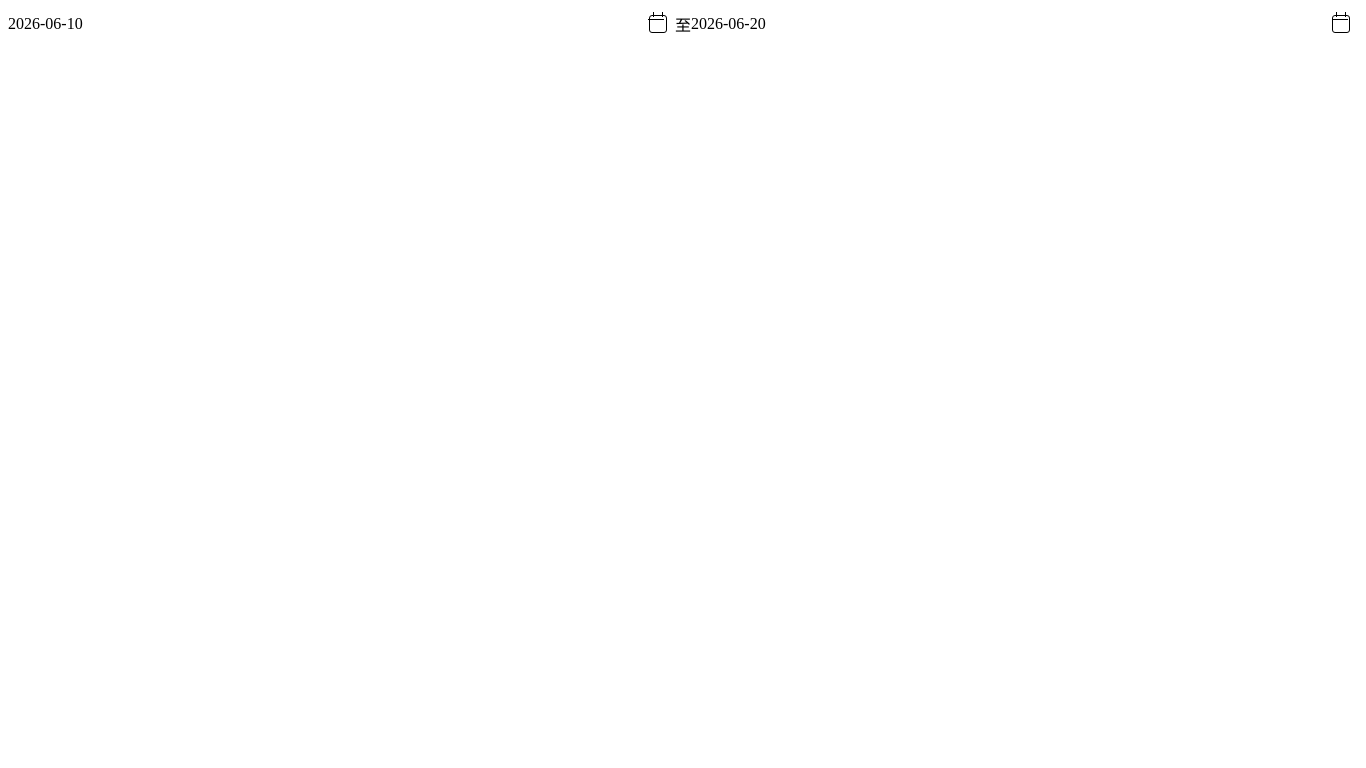
Test case: DateRangePicker › 支持 disabledDate 按位置禁用日期
This screenshot has width=1366, height=768.
Click the 2nd button with class "su-date-picker__trigger" at (1341, 24), box [1324, 8, 1358, 40]
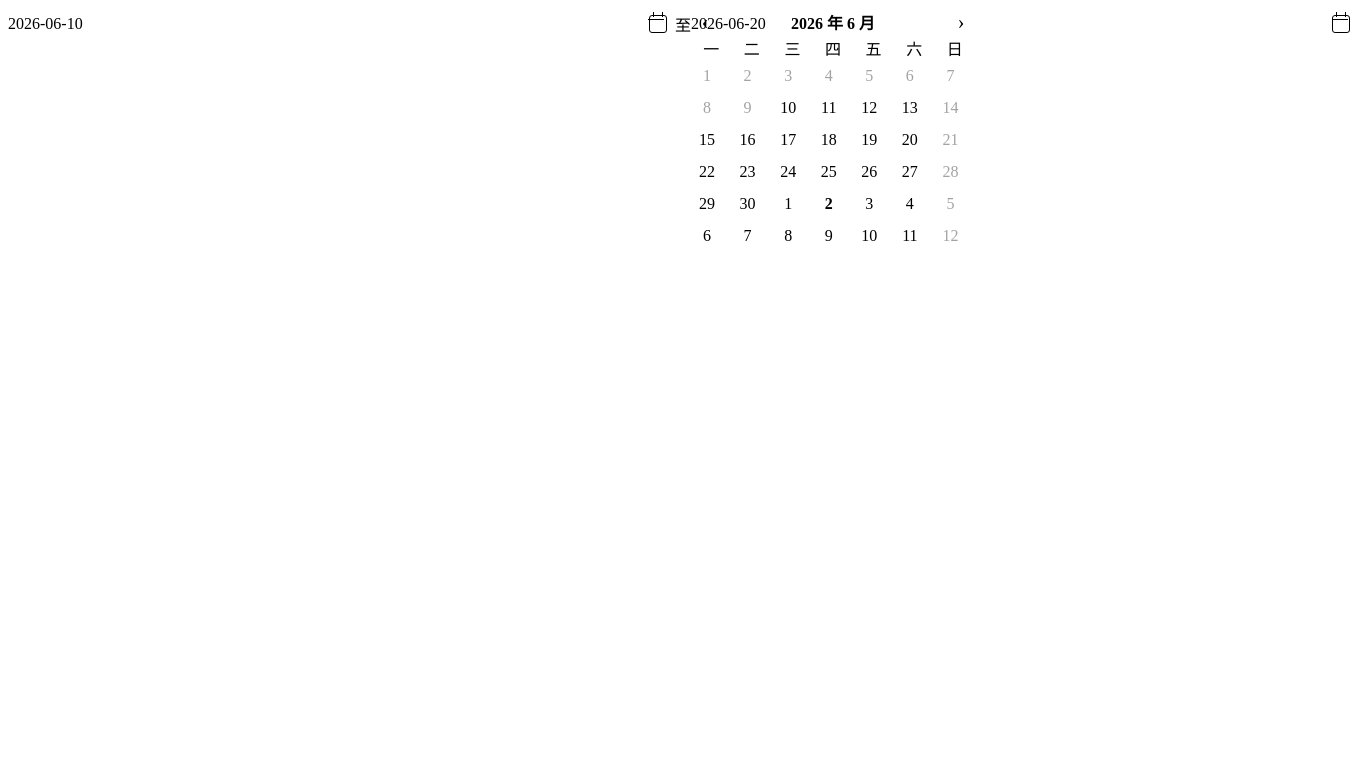
Check: the cell with class "su-date-picker__cell" showing "21" is disabled, box [934, 124, 966, 156]
